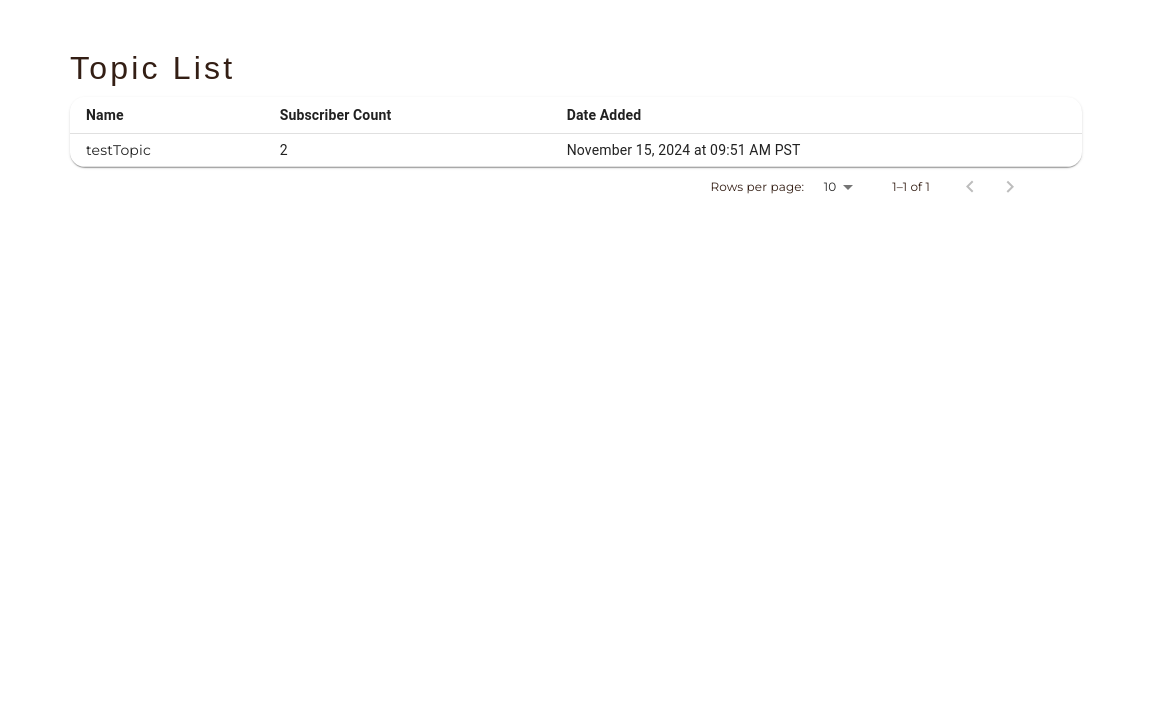
Test case: Testing Topics component › Clicking a topic renders the topic component and details
Click the link "testTopic". click: (118, 150)
box: [86,141,151,159]
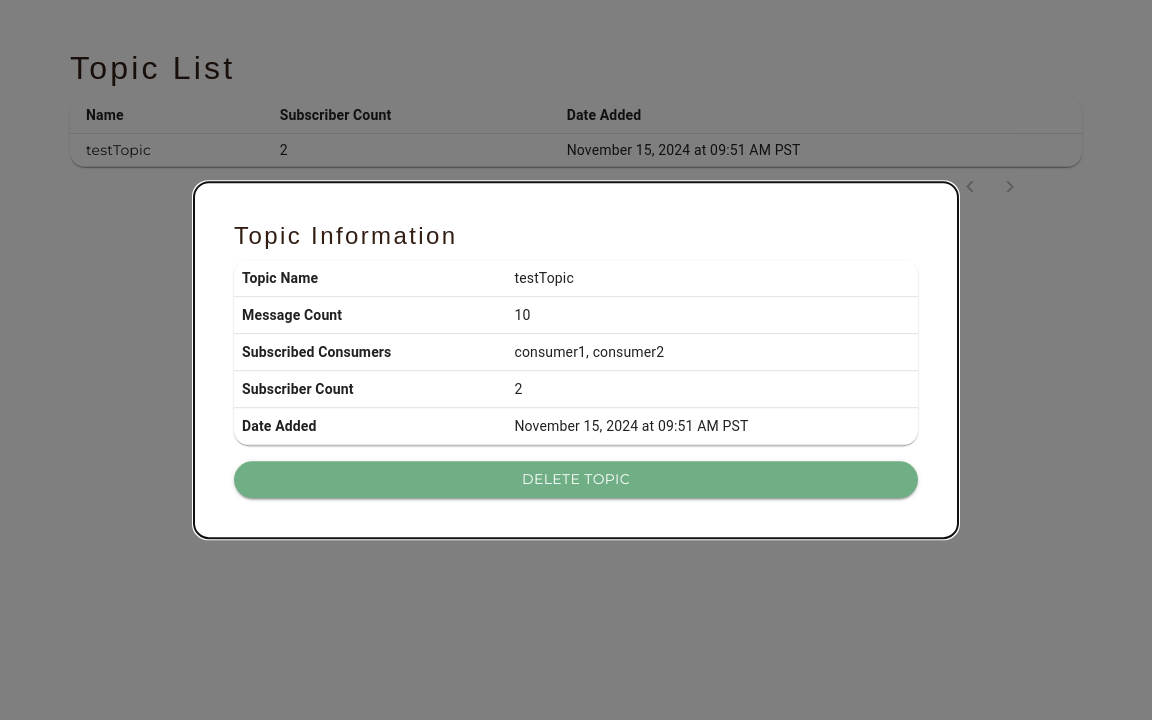
Check: the heading "Topic Information" is shown, box [234,222,458,249]
Check: the text "consumer1, consumer2" is shown, box [506,334,918,371]
